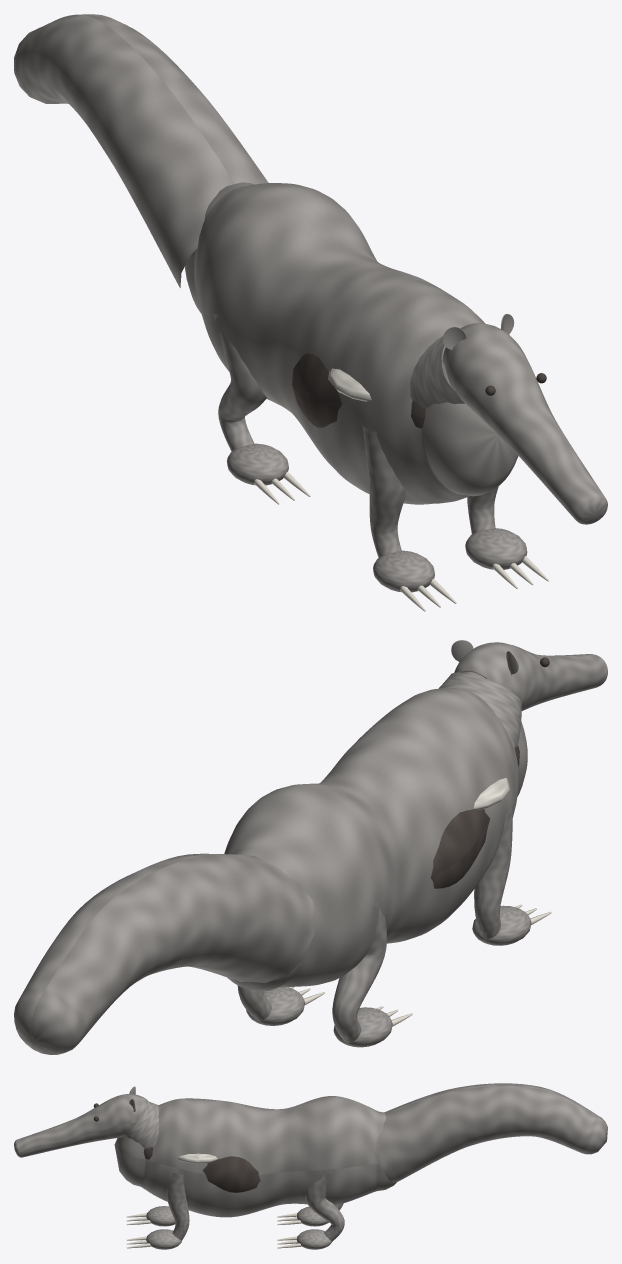
The model's file is other-giant-anteater.glb.
3 views of the same model, one above another, from view 1: azimuth 30°, elevation 25°; view 2: azimuth 150°, elevation 25°; view 3: azimuth 270°, elevation 25° (orthographic). The views are drawn at different scales.
Parts seen in each view (by area): view 1: giant-anteater; view 2: giant-anteater; view 3: giant-anteater.
Boxes of the visible parts, <box> form: giant-anteater: <box>14,14,607,611</box>; giant-anteater: <box>14,640,607,1054</box>; giant-anteater: <box>14,1083,607,1249</box>.
Bounding box in the file's own units: 0.4142 × 0.7164 × 2.55.
Materials: 6 (3 with a texture image).
